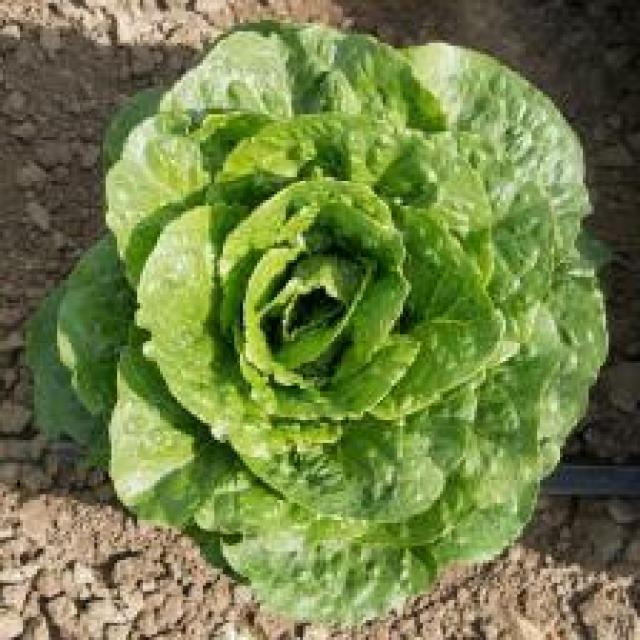Lettuce: (37, 28, 604, 620)
